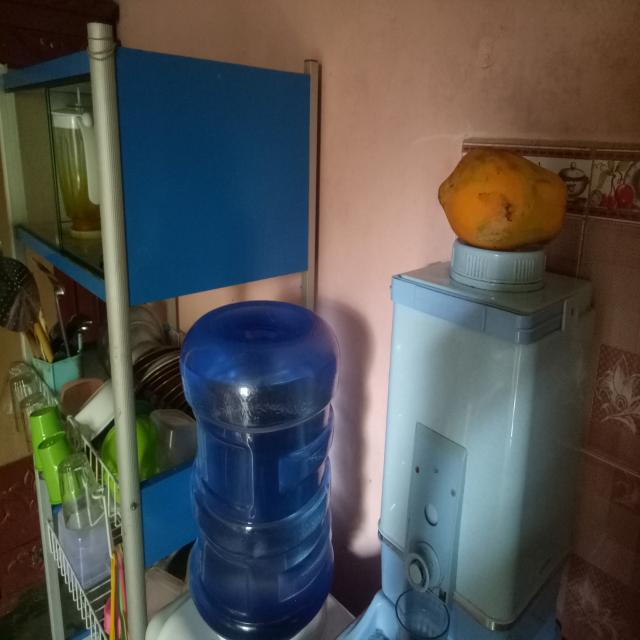Pepaya rippen: (434, 148, 572, 246)
